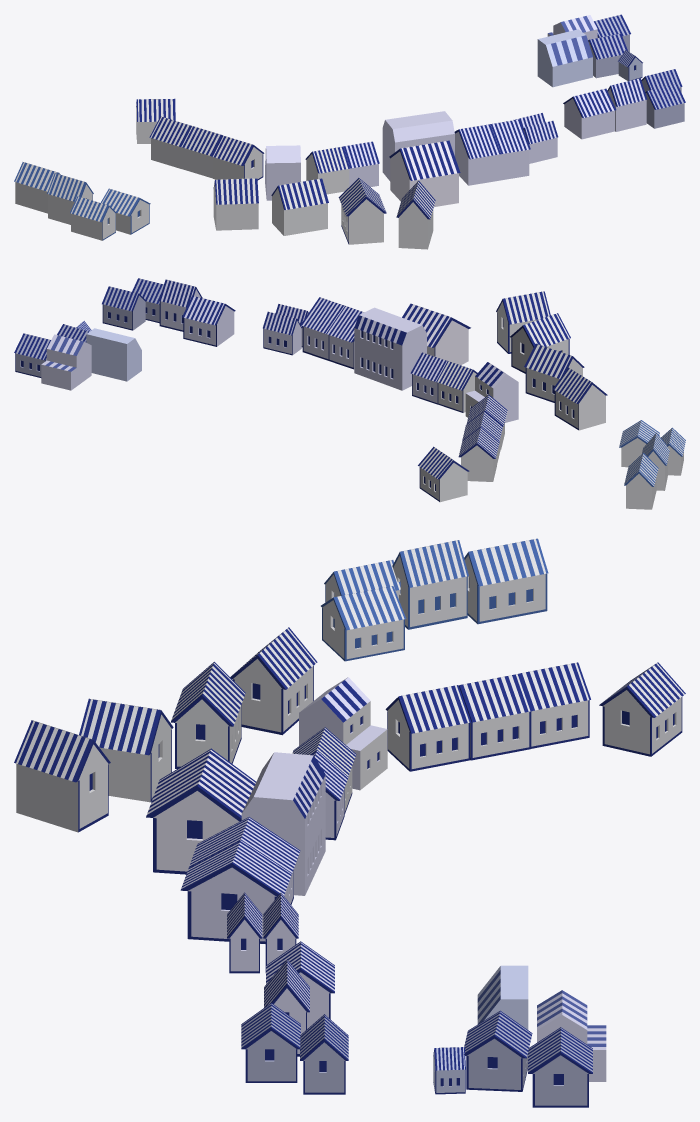
The model's file is Village_front.gltf.
The picture shows the model from 3 angles, top to bottom: view 1: azimuth 30°, elevation 25°; view 2: azimuth 150°, elevation 25°; view 3: azimuth 270°, elevation 25°; orthographic projection. The views are drawn at different scales.
Parts seen in each view (by area): view 1: Cube.016, Cube.021, Cube.002, Cube.003, Cube.020, Cube.015, Cube.022, Cube.011, Cube.019, Cube.023, Cube.014, Cube.017 (+17 smaller); view 2: Cube.003, Cube.022, Cube.002, Cube.016, Cube.001, Cube.011, Cube.021, Cube.020, Cube.005, Cube.019, Cube.004, Cube.014 (+16 smaller); view 3: Cube.019, Cube.016, Cube.003, Cube.020, Cube.014, Cube.022, Cube.023, Cube.029, Cube.005, Cube.021, Cube.028, Cube.026 (+18 smaller).
Boxes of the visible parts, <box> form: Cube.016: <box>389,140,460,206</box>; Cube.021: <box>271,178,328,235</box>; Cube.002: <box>537,29,592,87</box>; Cube.003: <box>382,111,454,181</box>; Cube.020: <box>338,178,386,244</box>; Cube.015: <box>454,124,500,185</box>; Cube.022: <box>213,178,258,230</box>; Cube.011: <box>563,88,616,139</box>; Cube.019: <box>396,180,435,249</box>; Cube.023: <box>212,135,264,180</box>; Cube.014: <box>490,119,530,180</box>; Cube.017: <box>305,146,349,194</box>; Cube.003: <box>354,307,426,390</box>; Cube.022: <box>553,367,607,430</box>; Cube.002: <box>86,328,141,381</box>; Cube.016: <box>402,303,470,365</box>; Cube.001: <box>41,334,91,390</box>; Cube.011: <box>182,295,235,346</box>; Cube.021: <box>524,343,584,402</box>; Cube.020: <box>510,313,570,373</box>; Cube.005: <box>418,446,469,502</box>; Cube.019: <box>496,291,550,353</box>; Cube.004: <box>465,362,518,422</box>; Cube.014: <box>300,297,345,360</box>; Cube.019: <box>14,720,110,832</box>; Cube.016: <box>146,748,255,874</box>; Cube.003: <box>241,752,325,895</box>; Cube.020: <box>79,698,173,802</box>; Cube.014: <box>180,839,291,943</box>; Cube.022: <box>230,627,317,735</box>; Cube.023: <box>385,685,471,771</box>; Cube.029: <box>464,538,548,624</box>; Cube.005: <box>599,662,685,756</box>; Cube.021: <box>170,661,245,768</box>; Cube.028: <box>392,540,468,629</box>; Cube.026: <box>321,586,406,661</box>.
Bounding box in the file's own units: 41.46 × 3.57 × 22.88.
